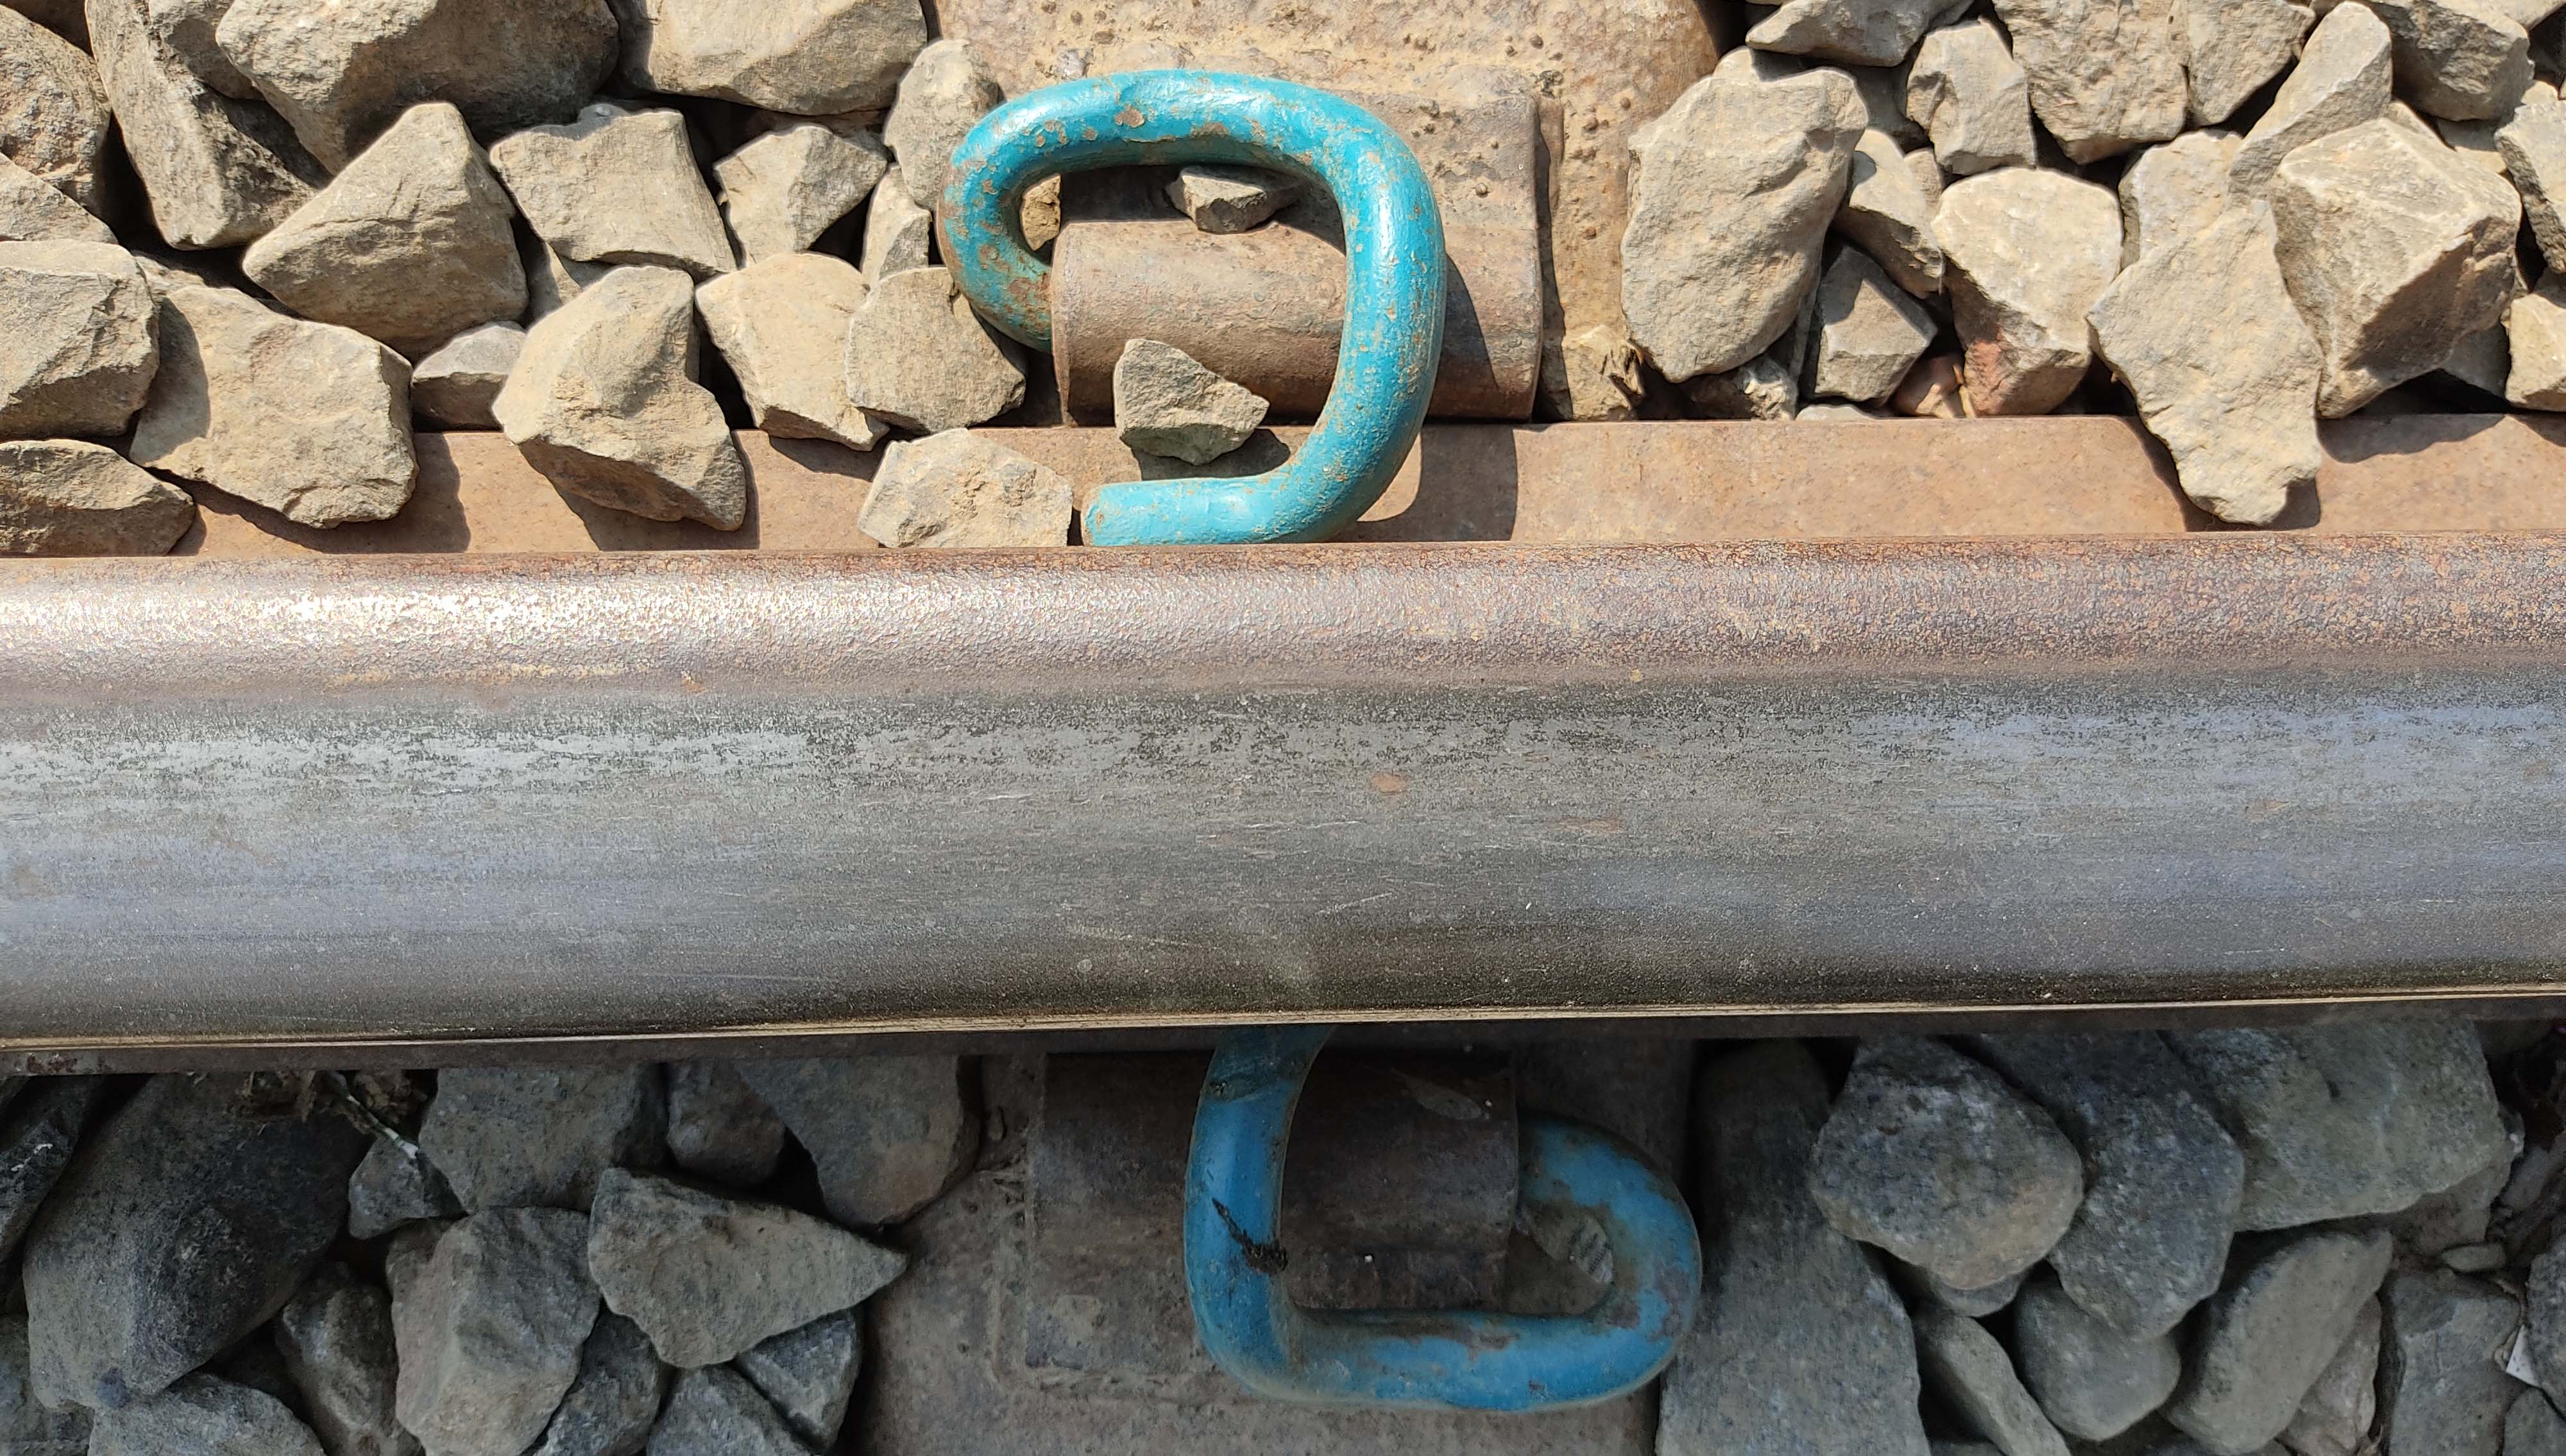error1: (1026, 975, 1704, 1456), (952, 72, 1530, 603)
